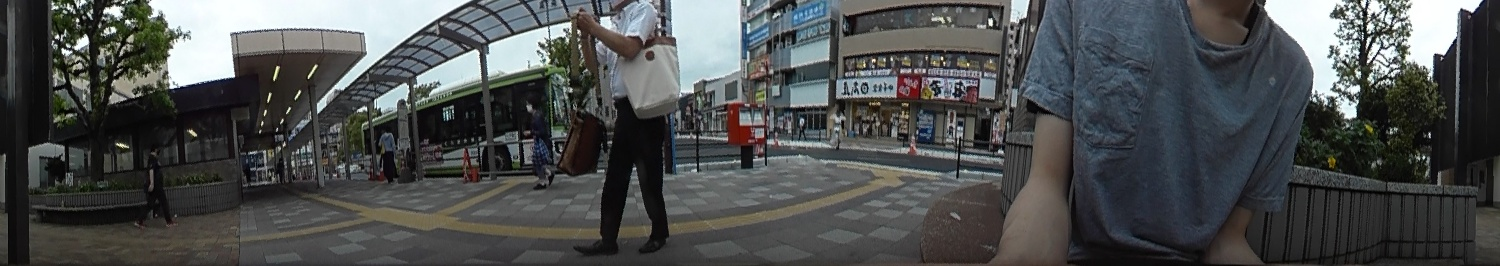difficult_person: (828, 106, 846, 148)
person: (557, 0, 681, 248), (135, 144, 177, 228), (521, 94, 557, 188), (377, 126, 398, 184)
